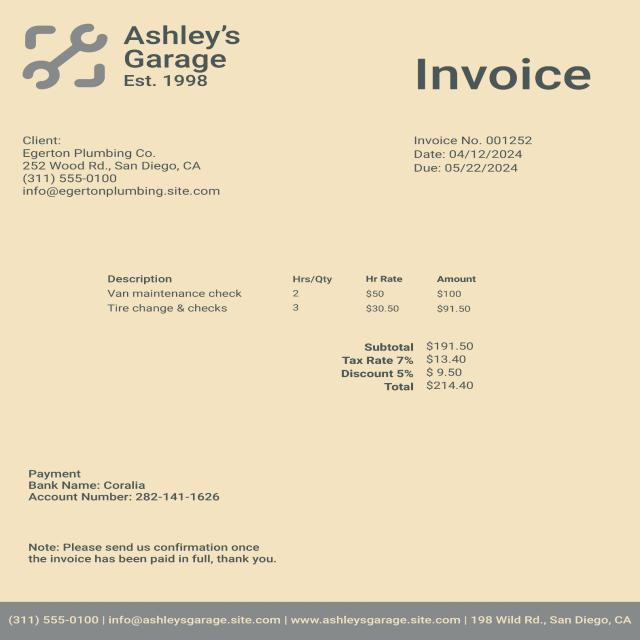paragraph: (3, 596, 635, 632), (14, 126, 241, 214), (400, 38, 610, 101), (328, 336, 492, 408), (112, 17, 245, 97), (18, 460, 230, 506), (19, 536, 287, 570), (409, 122, 537, 176)
table: (94, 262, 493, 324)
